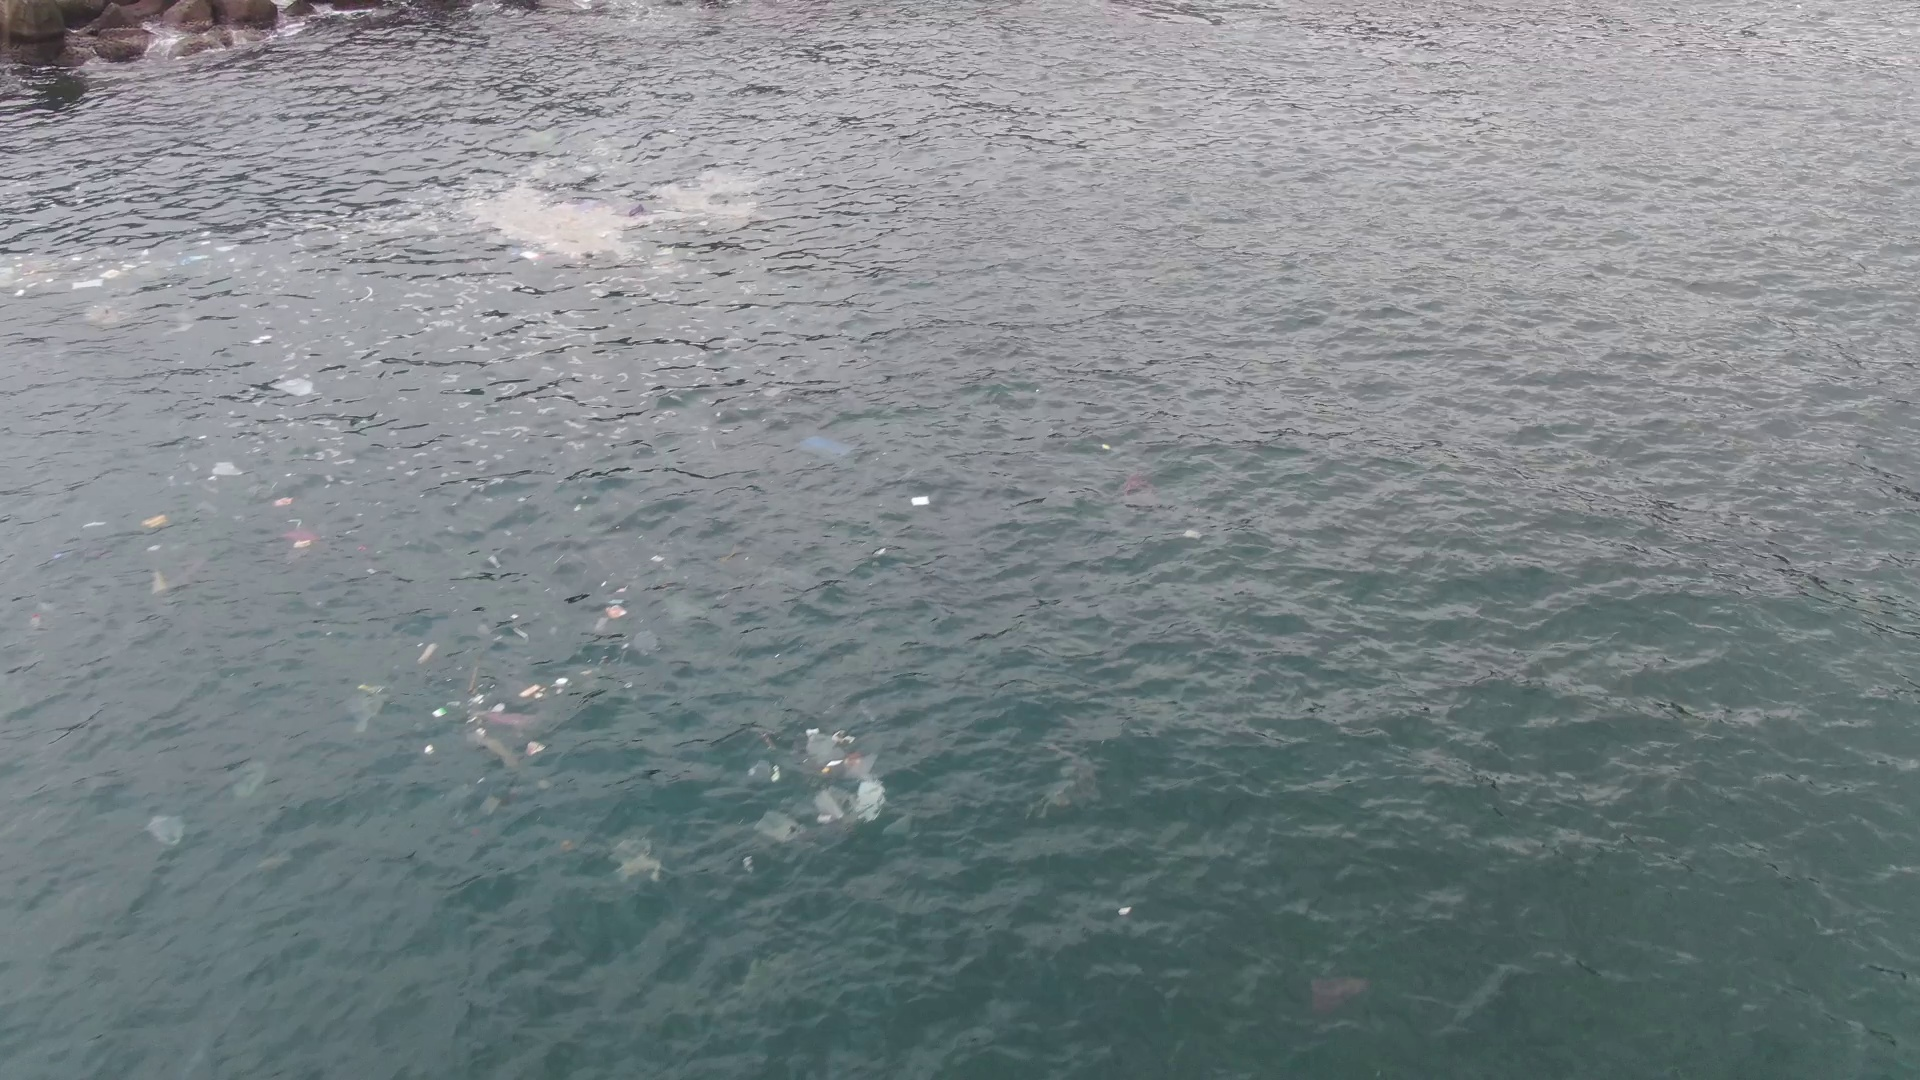garbage: (419, 655, 578, 783), (750, 724, 887, 847), (475, 193, 645, 272), (9, 251, 148, 295), (595, 829, 673, 886), (1042, 745, 1098, 808), (1311, 975, 1371, 1021), (348, 683, 392, 729), (597, 585, 636, 632), (796, 433, 860, 459), (145, 815, 195, 847), (1121, 469, 1158, 506), (276, 524, 320, 554), (272, 378, 316, 398), (210, 462, 244, 480), (138, 513, 170, 533), (149, 572, 167, 593), (913, 492, 930, 512), (1118, 899, 1134, 920), (651, 550, 663, 563), (873, 549, 889, 556)
